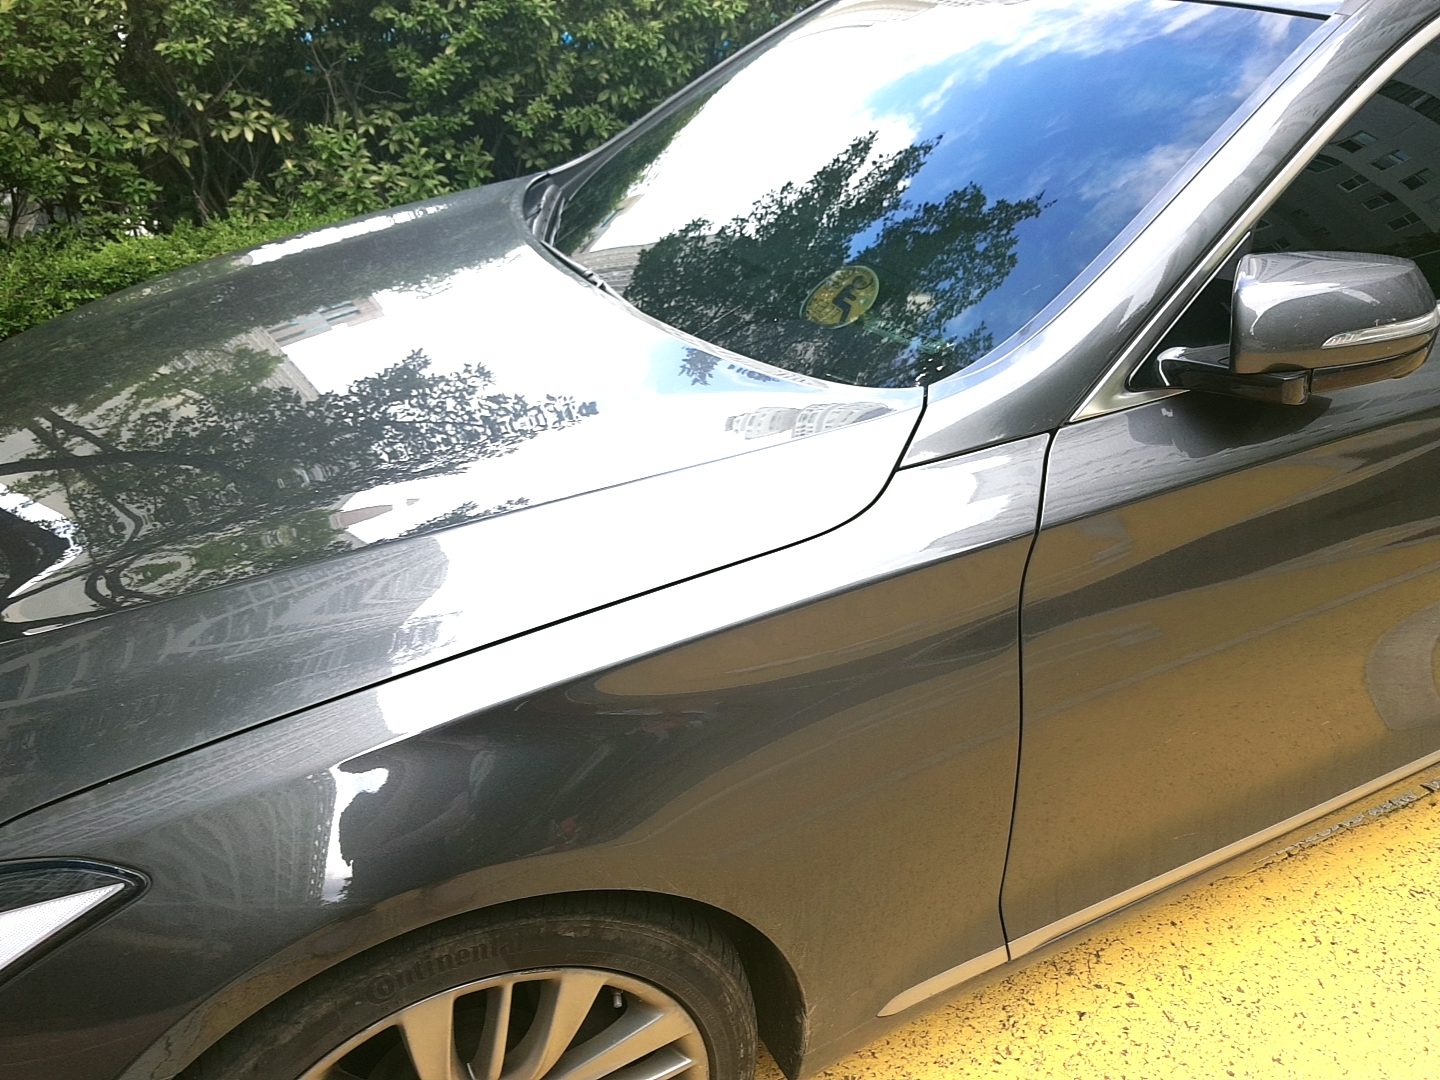disabled_parking: (801, 264, 889, 332)
